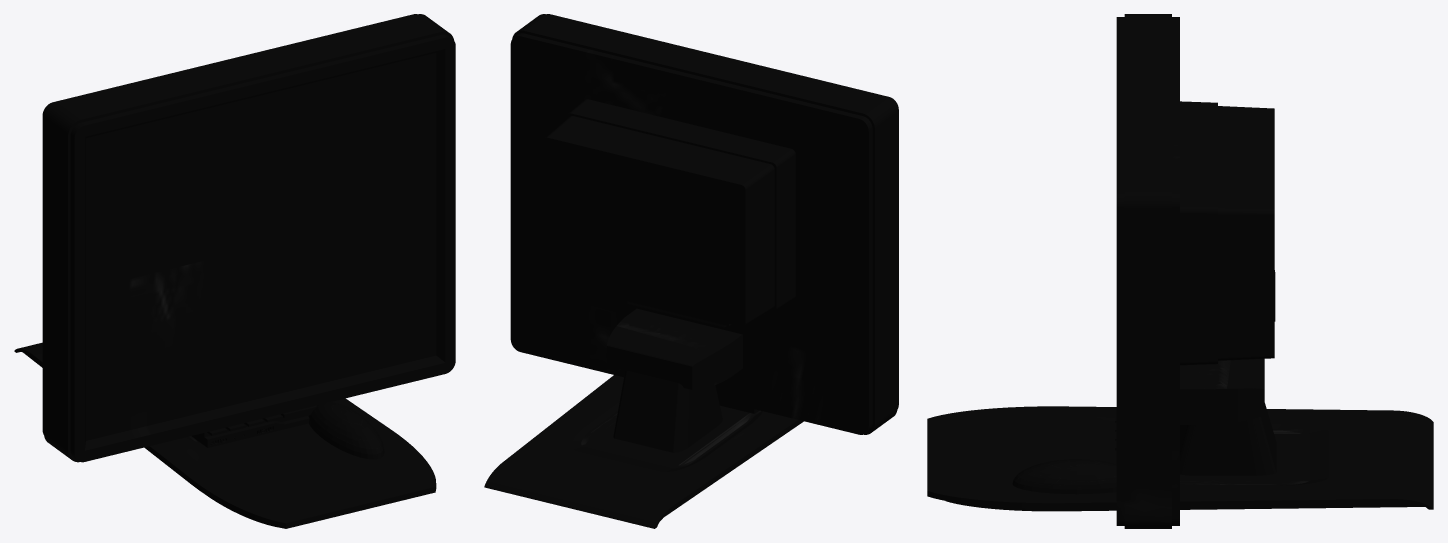
Rendered from television_0.glb.
3 views of the same model, side by side, from view 1: azimuth 30°, elevation 25°; view 2: azimuth 150°, elevation 25°; view 3: azimuth 270°, elevation 25° (orthographic). The views are drawn at different scales.
Visible parts, largest first — view 1: television_0; view 2: television_0; view 3: television_0.
Boxes of the visible parts, left/top/right/bottom form: television_0: left=14, top=14, right=455, bottom=528; television_0: left=484, top=14, right=898, bottom=528; television_0: left=927, top=14, right=1433, bottom=528.
Bounding box in the file's own units: 0.0985 × 0.0923 × 0.1129.
1 material, 1 textured.
